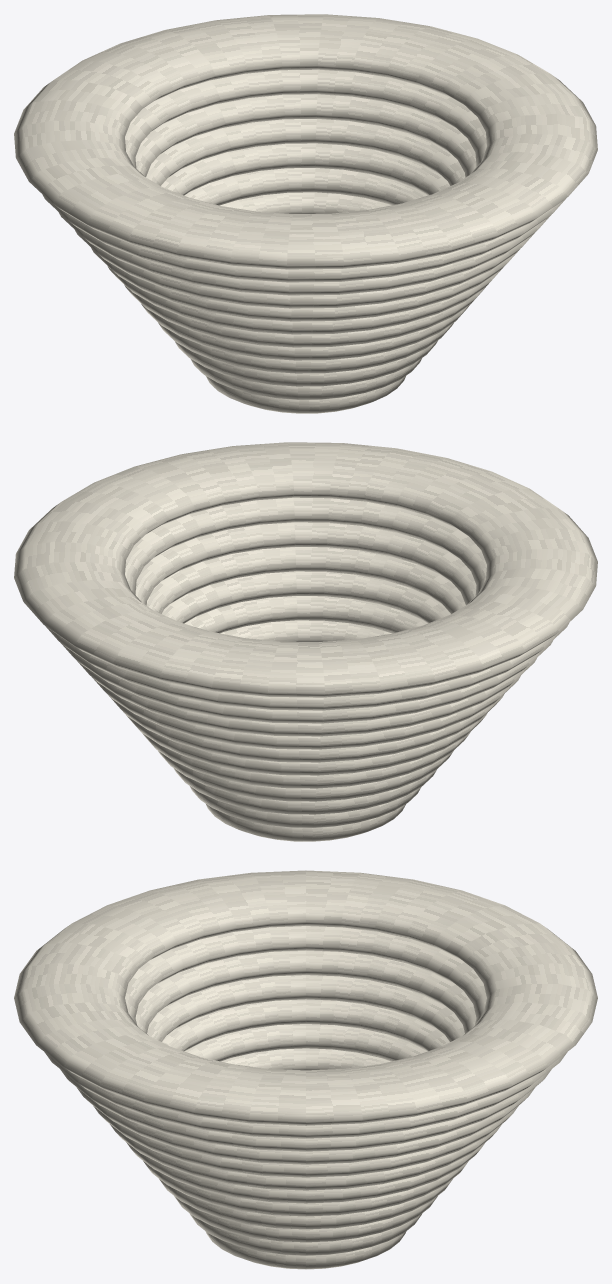
File: bowl.glb
3 renders of one model, top to bottom at view 1: azimuth 30°, elevation 25°; view 2: azimuth 150°, elevation 25°; view 3: azimuth 270°, elevation 25°, orthographic.
Visible parts, largest first — view 1: porcelain (×12); view 2: porcelain (×12); view 3: porcelain (×12).
Boxes of the visible parts, x1=… form: porcelain (×12): x1=14, y1=14, x2=597, y2=413; porcelain (×12): x1=14, y1=442, x2=597, y2=841; porcelain (×12): x1=14, y1=870, x2=597, y2=1269.
Size of the model in its own units: 0.16 by 0.0746 by 0.16.
1 material, 1 textured.
